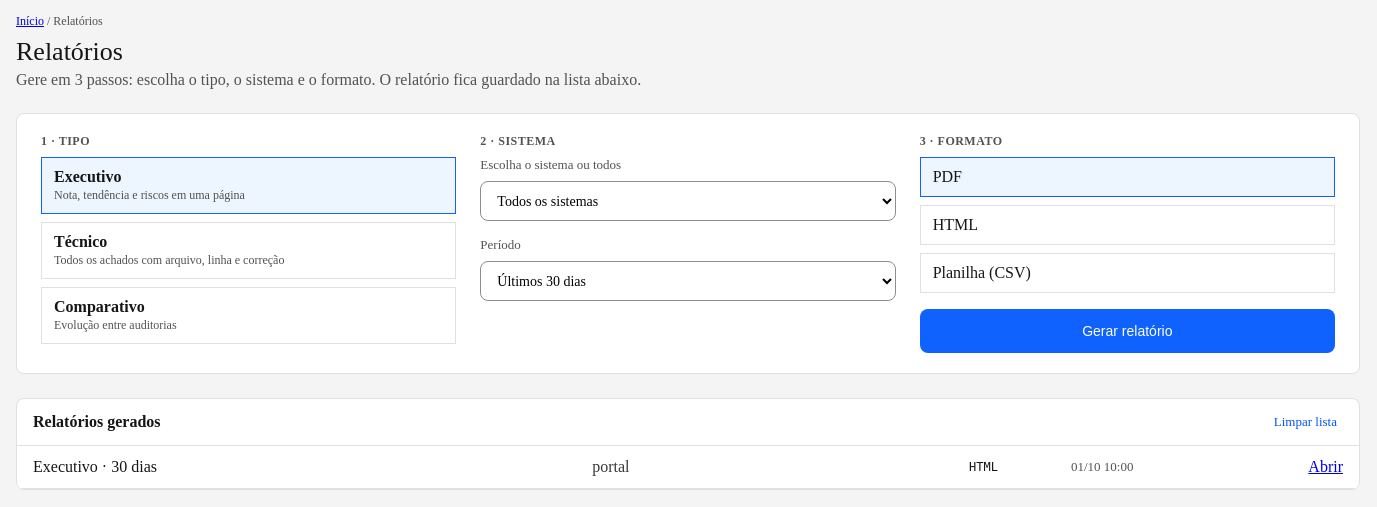
Test: ReportsPage › lê entradas antigas do histórico e limpa a lista
Check: the text "Executivo · 30 dias" is shown, box [33,458,157,475]
Click the button "Limpar lista": point(1305, 422) [1268,413,1343,431]
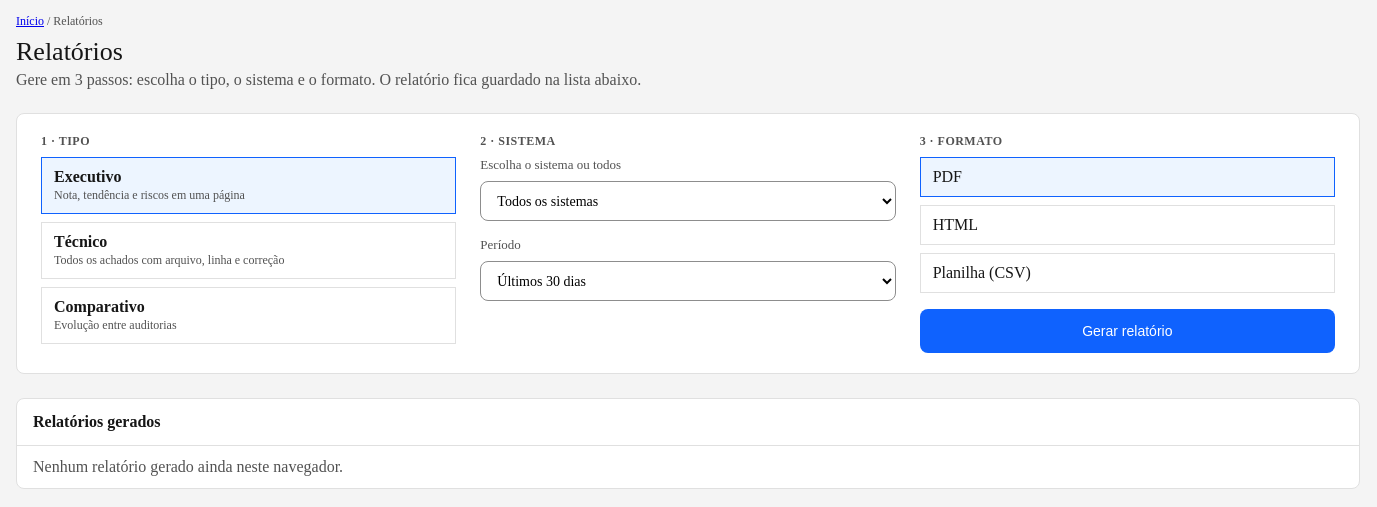
Check: the text "Nenhum relatório gerado ainda neste navegador." is shown, box [33,458,343,475]
